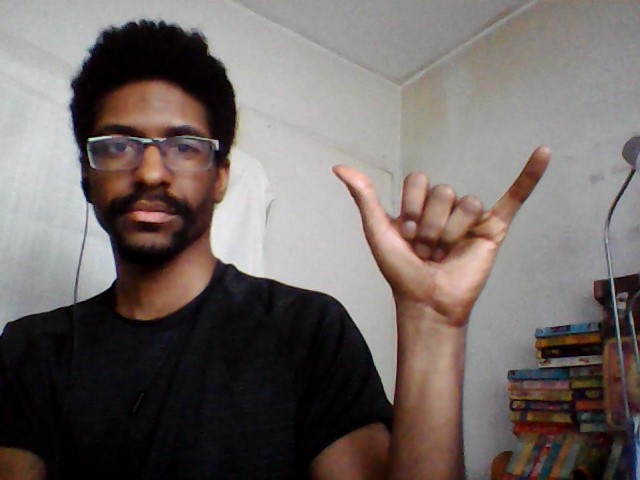y: (326, 143, 554, 324)
